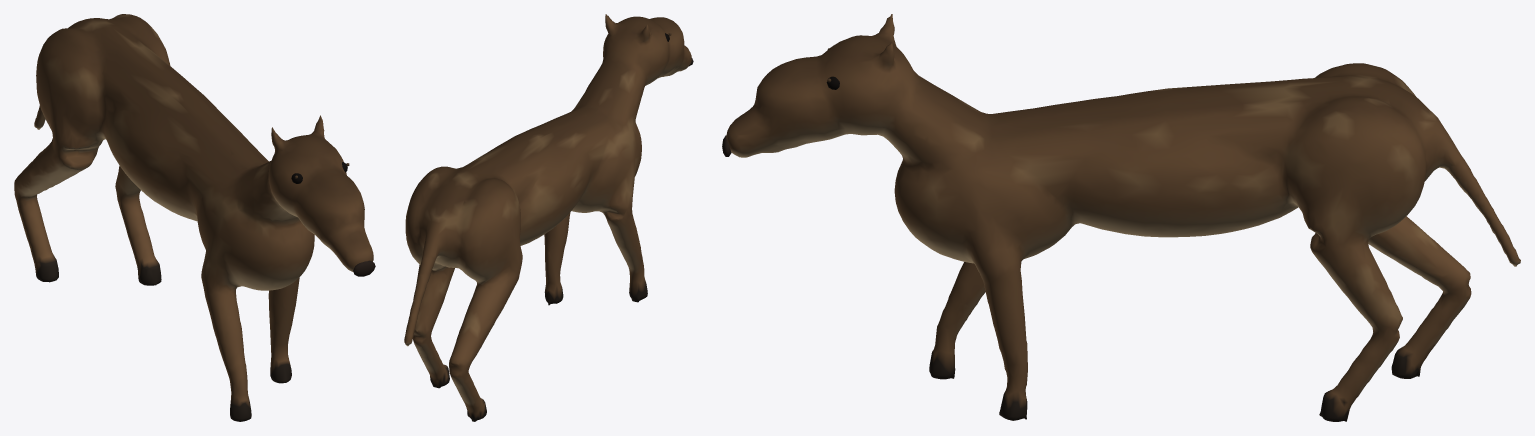
Rendered from EohippusAngustidens.fbx.
3 views of the same model, side by side, from view 1: azimuth 30°, elevation 25°; view 2: azimuth 150°, elevation 25°; view 3: azimuth 270°, elevation 25° (orthographic). The views are drawn at different scales.
Visible parts, largest first — view 1: EohippusAngustidens; view 2: EohippusAngustidens; view 3: EohippusAngustidens.
Part boxes in pixels (box(x1,y1,x2,y2)): EohippusAngustidens: box(14, 14, 375, 421); EohippusAngustidens: box(404, 14, 693, 421); EohippusAngustidens: box(722, 14, 1520, 421).
Bounding box in the file's own units: 0.3132 × 0.8012 × 1.57.
